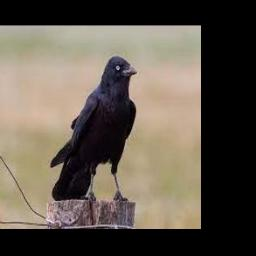Crow: (51, 56, 138, 200)
